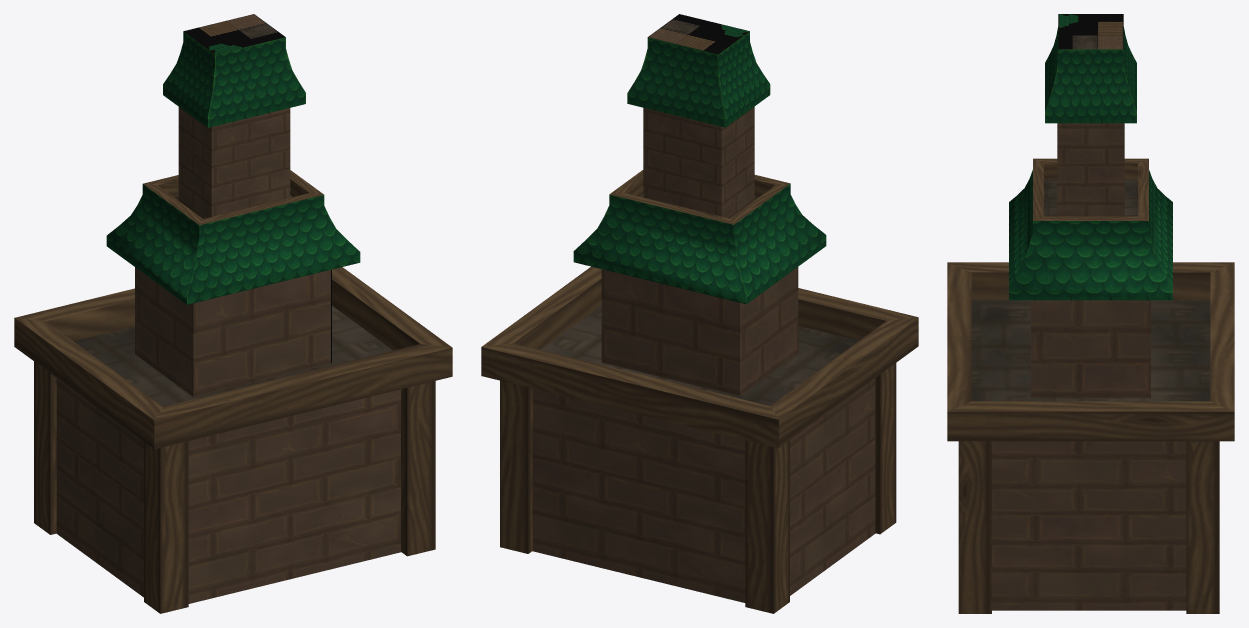
The model's file is stuntower.fbx.
The picture shows the model from 3 angles, left to right: view 1: azimuth 30°, elevation 25°; view 2: azimuth 150°, elevation 25°; view 3: azimuth 270°, elevation 25°; orthographic projection. The views are drawn at different scales.
Parts seen in each view (by area): view 1: basis, hout_top, dak, basis_top, dakje, basis_top_top, plank_2, plank, plank_3; view 2: basis, hout_top, dak, basis_top, dakje, basis_top_top, plank_3, plank_1, plank_2; view 3: basis, hout_top, dak, basis_top, dakje, basis_top_top, plank_1, plank.
Boxes of the visible parts, x1,y1,x2,y2 form: basis: (56,306,400,603); hout_top: (14,267,452,449); dak: (106,170,360,304); basis_top: (135,267,331,396); dakje: (163,14,305,127); basis_top_top: (178,107,290,218); plank_2: (144,441,188,613); plank: (401,381,435,556); plank_3: (34,361,56,534); basis: (532,305,875,602); hout_top: (481,266,918,448); dak: (573,170,826,304); basis_top: (601,267,798,396); dakje: (627,14,770,127); basis_top_top: (643,107,754,218); plank_3: (745,440,789,613); plank_1: (500,380,532,553); plank_2: (875,363,896,534); basis: (971,299,1210,610); hout_top: (947,262,1234,441); dak: (1009,158,1172,300); basis_top: (1031,300,1150,398); dakje: (1045,14,1136,123); basis_top_top: (1057,123,1124,216); plank_1: (1186,441,1219,613); plank: (958,441,991,613).
Size of the model in its own units: 430 by 691 by 350.
Materials: 1 (1 with a texture image).
